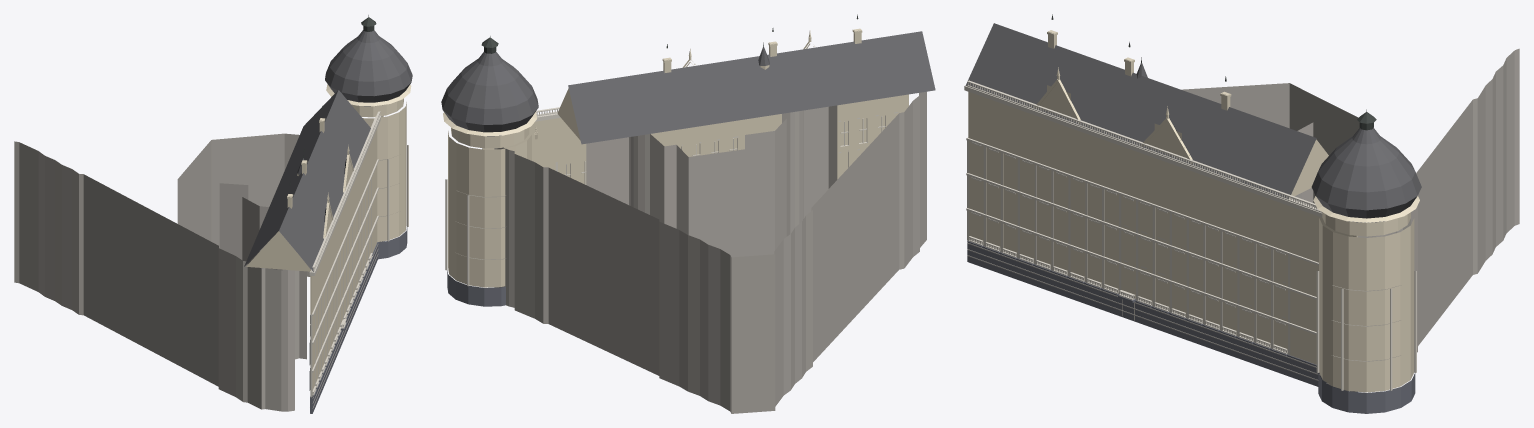
3 renders of one model, left to right at view 1: azimuth 30°, elevation 25°; view 2: azimuth 150°, elevation 25°; view 3: azimuth 270°, elevation 25°, orthographic. The views are drawn at different scales.
Size of the model in its own units: 72.73 by 46.34 by 81.66.
